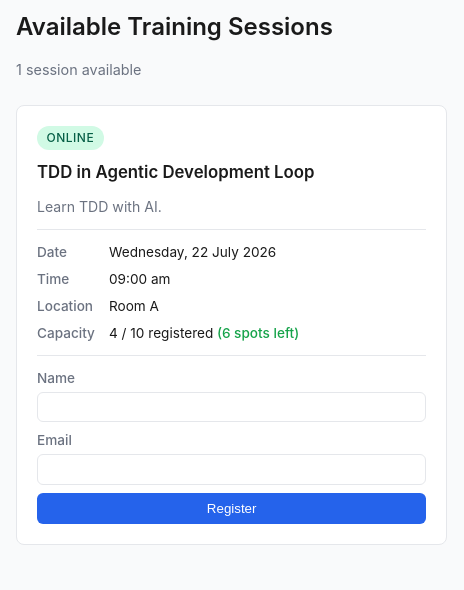
Scenario: TrainingSessionsPage registration › falls back to a generic message when the error body is not JSON
expect the link "TDD in Agentic Development Loop" is shown: met, box [37,162,314,182]
Type "Ada Lovelace" into the field labelled "Name".
click(232, 407); type("Ada Lovelace")  # box [37,392,426,422]
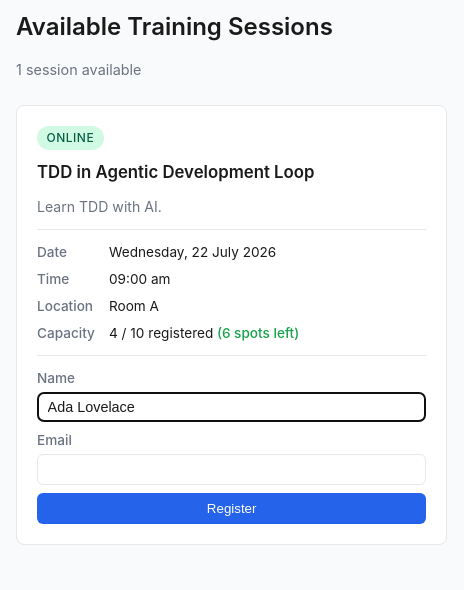
Type "ada@example.com" into the field labelled "Email".
click(232, 469); type("ada@example.com")  # box [37,454,426,485]
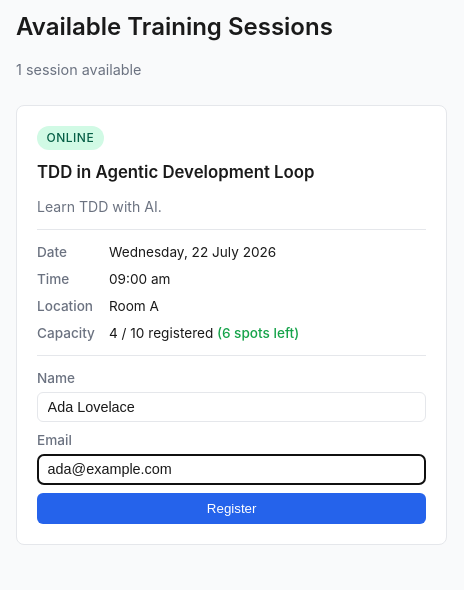
Click the button "Register".
click(232, 508)  # box [37,493,426,524]
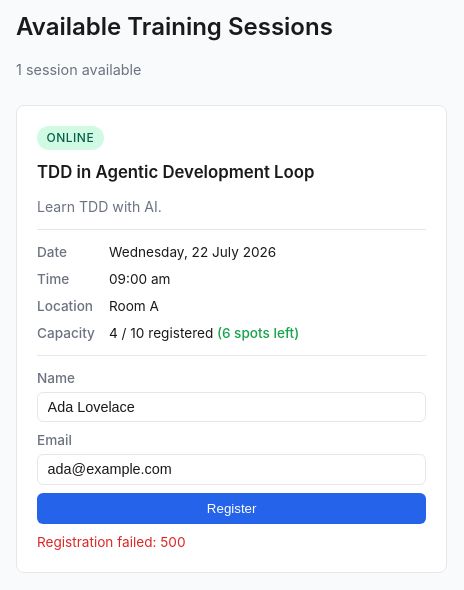
expect the message reads "Registration failed: 500": met, box [37,534,186,550]
